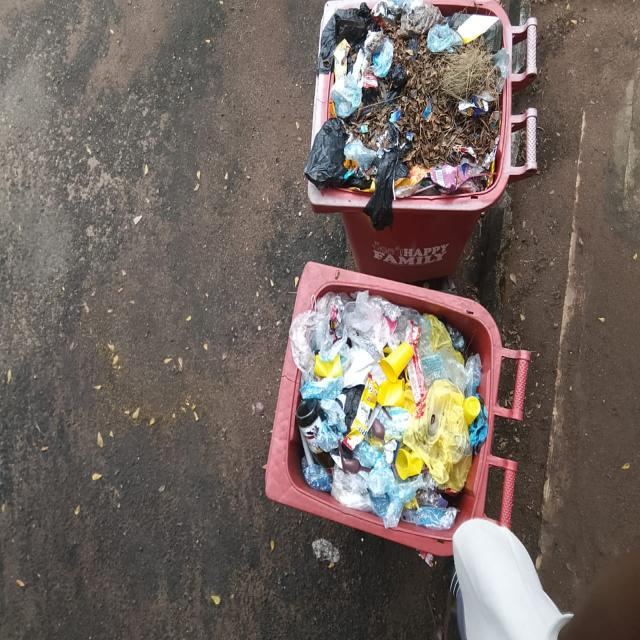full: (276, 272, 496, 544), (310, 0, 512, 208)
